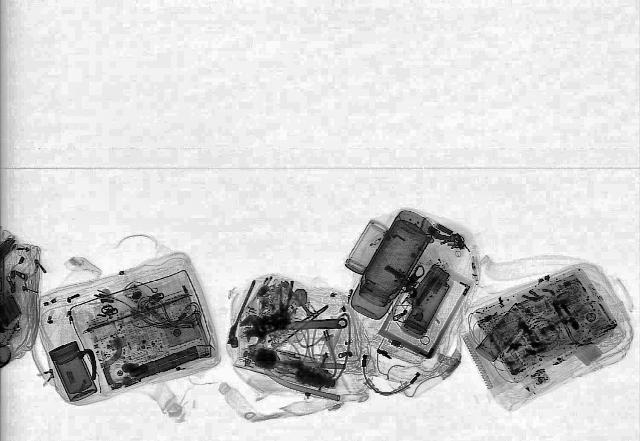Wrench: (238, 309, 348, 337)
